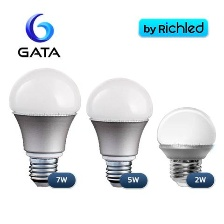light_bulb: (5, 65, 83, 190), (85, 72, 154, 191), (155, 102, 220, 190)
